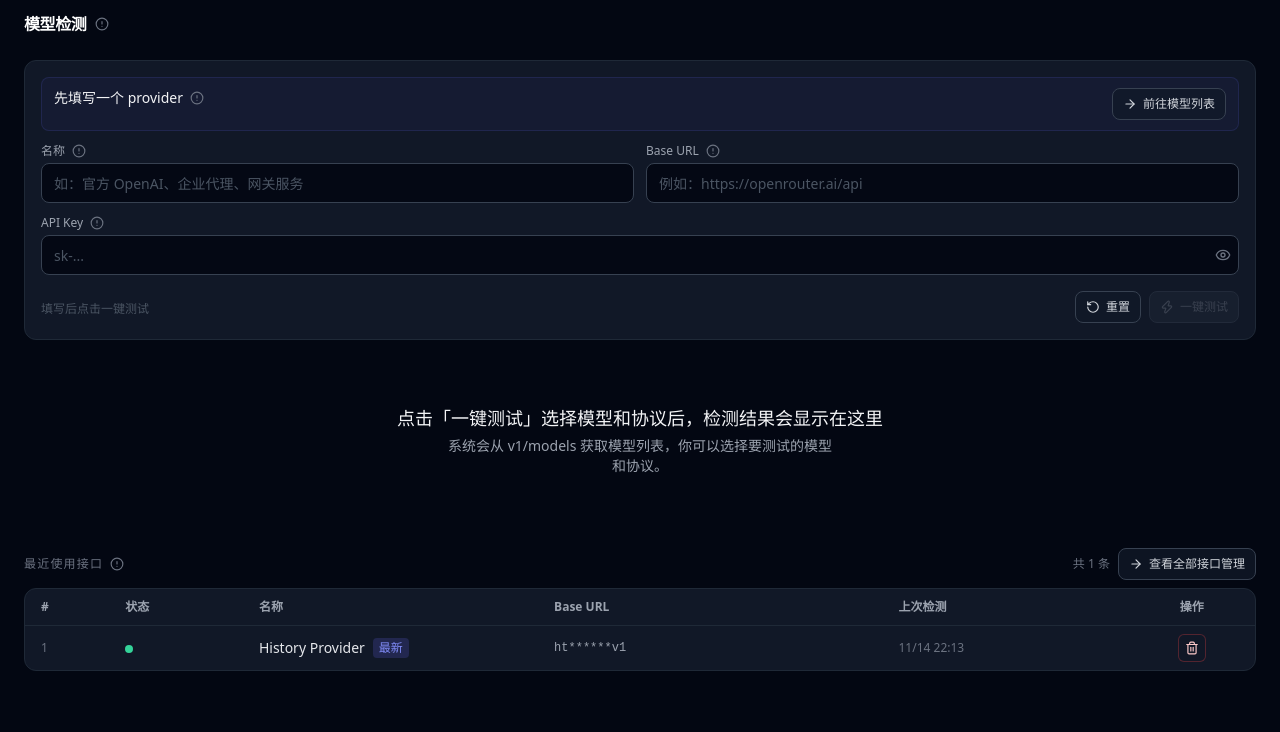
Test: DetectPage › loads recent provider history into the form when clicking a recent row
The image size is (1280, 732).
Click the text "History Provider" at x=312, y=648, box [259,638,365,658]
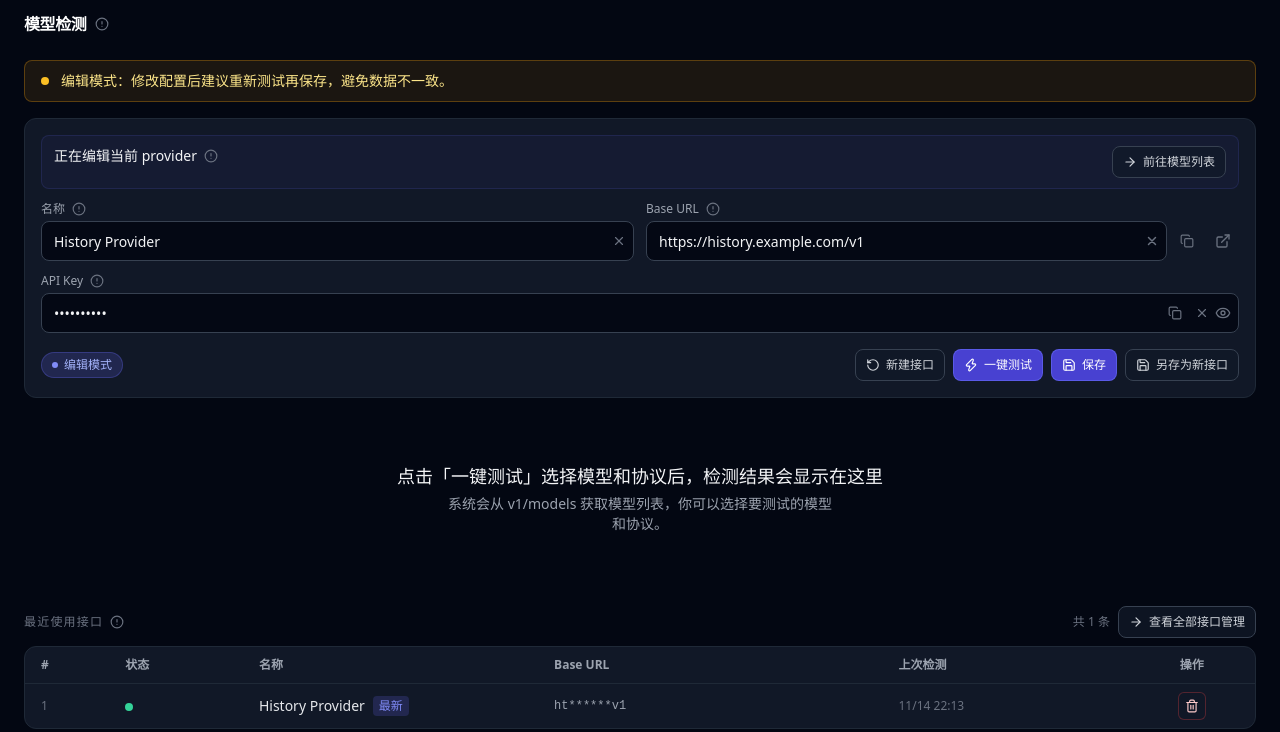
expect the 1st field showing "History Provider" is shown: met, box [41,221,634,261]
expect the 2nd field showing "https://history.example.com/v1" is shown: met, box [646,221,1167,261]
